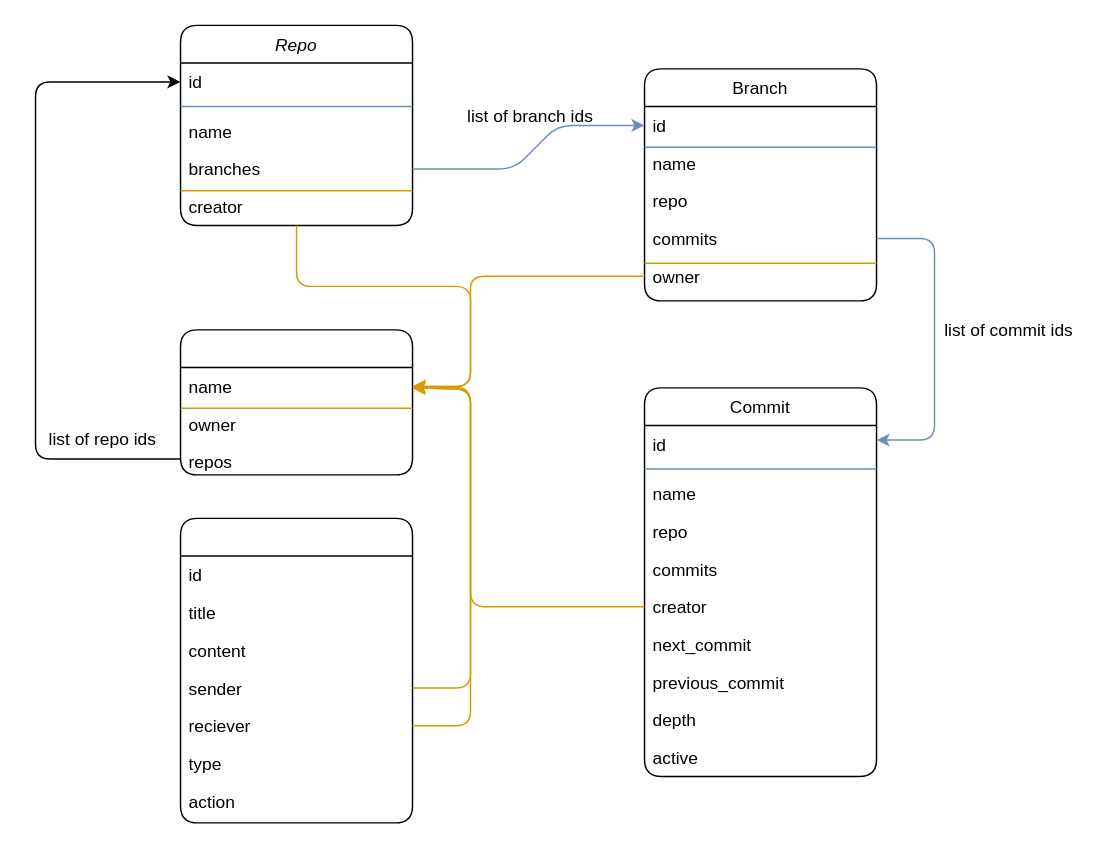
The diagram is 1098 pixels wide and 850 high, and some of its shapes have lost their labels. The box of each missing label's shape, as (x1, y1, x2, y2) in pixels:
Messages: (179, 517, 413, 823)
User: (179, 328, 413, 475)
